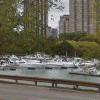Boat: (5, 47, 74, 73)
